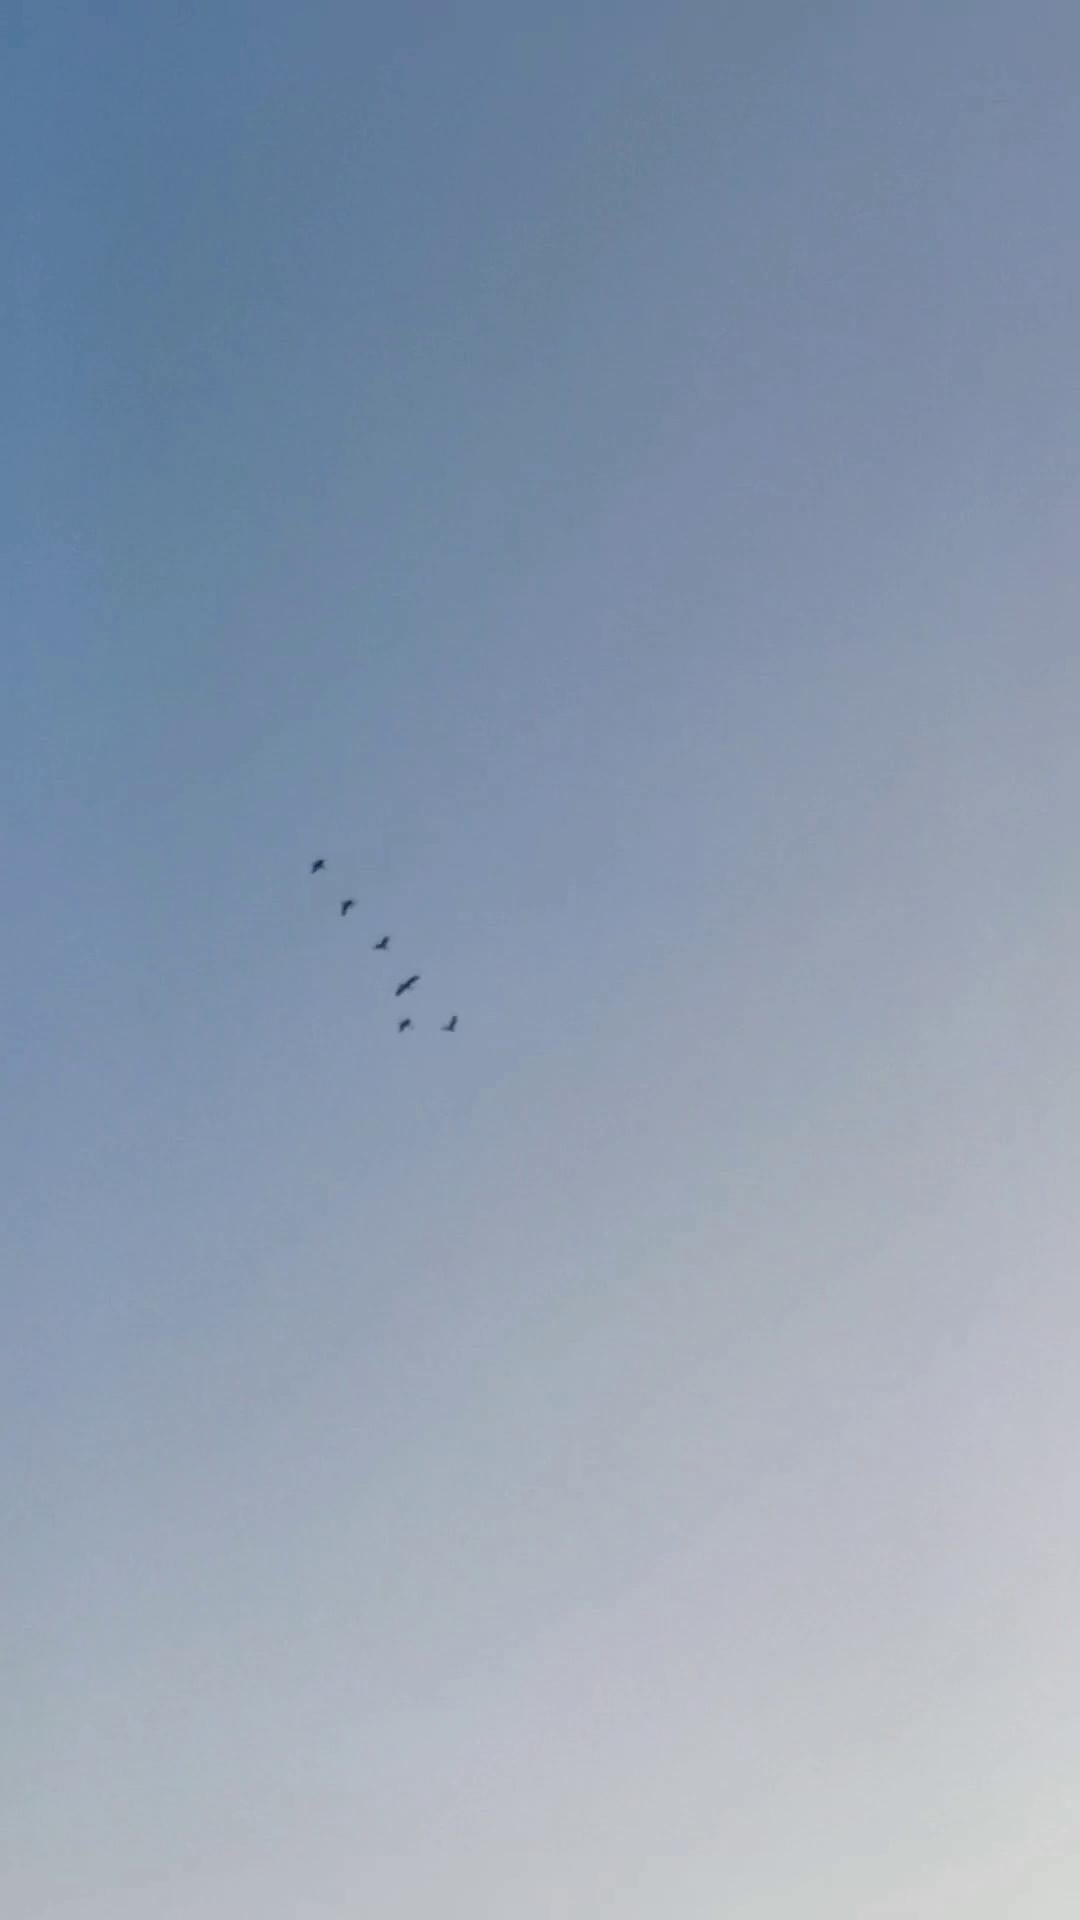bird: (396, 975, 419, 997), (440, 1015, 459, 1033), (339, 899, 357, 916), (373, 934, 390, 951), (397, 1018, 415, 1033), (311, 858, 326, 874)
